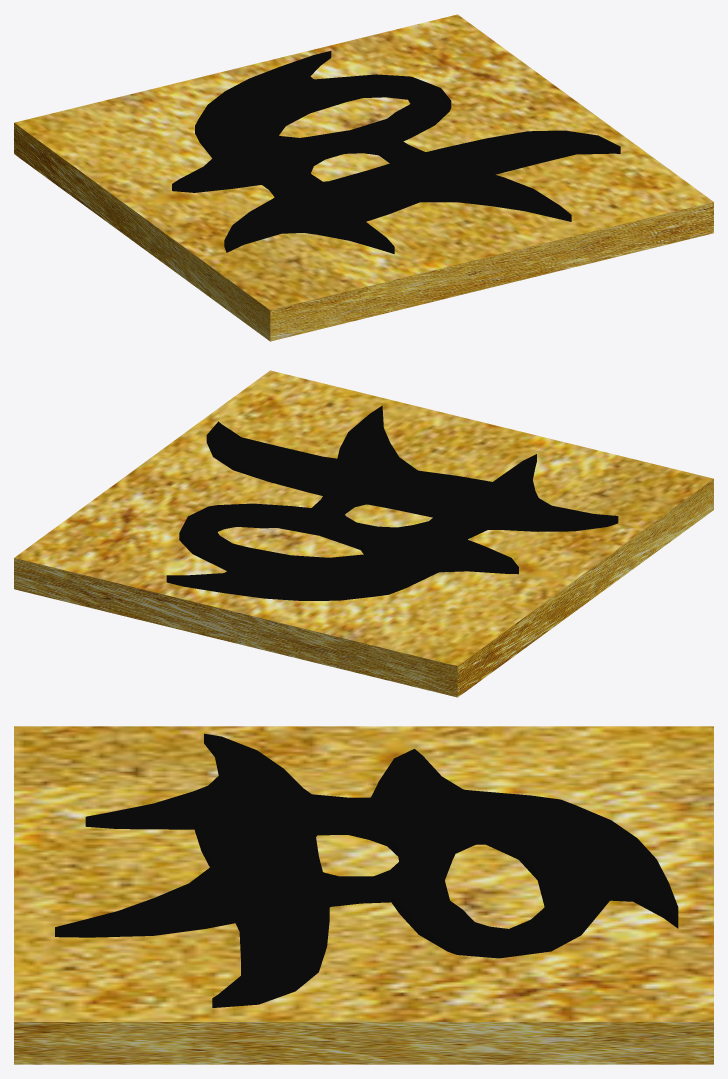
File: yellow.fbx
3 renders of one model, top to bottom at view 1: azimuth 30°, elevation 25°; view 2: azimuth 150°, elevation 25°; view 3: azimuth 270°, elevation 25°, orthographic. The views are drawn at different scales.
Parts seen in each view (by area): view 1: pCube3, Alien_Yellow1; view 2: pCube3, Alien_Yellow1; view 3: pCube3, Alien_Yellow1.
Part boxes in pixels (x1=…): pCube3: x1=14, y1=14, x2=713, y2=341; Alien_Yellow1: x1=172, y1=51, x2=620, y2=253; pCube3: x1=14, y1=370, x2=713, y2=697; Alien_Yellow1: x1=166, y1=405, x2=618, y2=600; pCube3: x1=14, y1=726, x2=713, y2=1064; Alien_Yellow1: x1=55, y1=733, x2=678, y2=1007.
Bounding box in the file's own units: 10 × 0.9441 × 10.
Materials: 2 (1 with a texture image).
